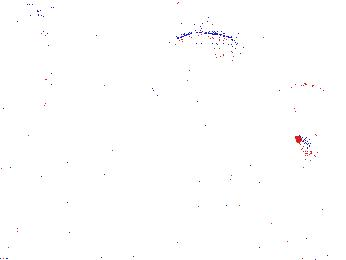moon jellyfish: (49, 1, 162, 63), (150, 32, 244, 99), (278, 83, 338, 152), (1, 10, 56, 78)
